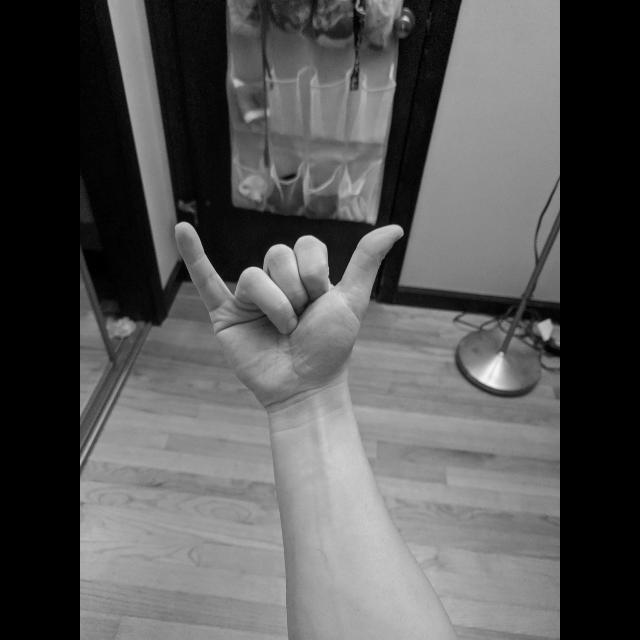Y: (170, 218, 412, 402)
